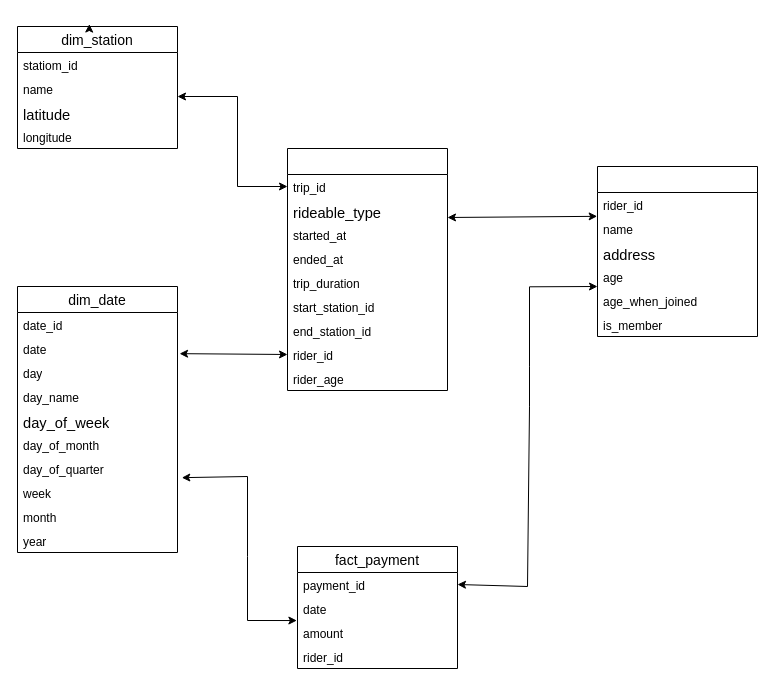
Image size: 775x689. Some labels were removed from this diagram. Here are the shapes that lost their labels. From the top down, the box of each, then its label:
(286, 148, 448, 390): fact_trip
(596, 166, 758, 336): dim_rider
